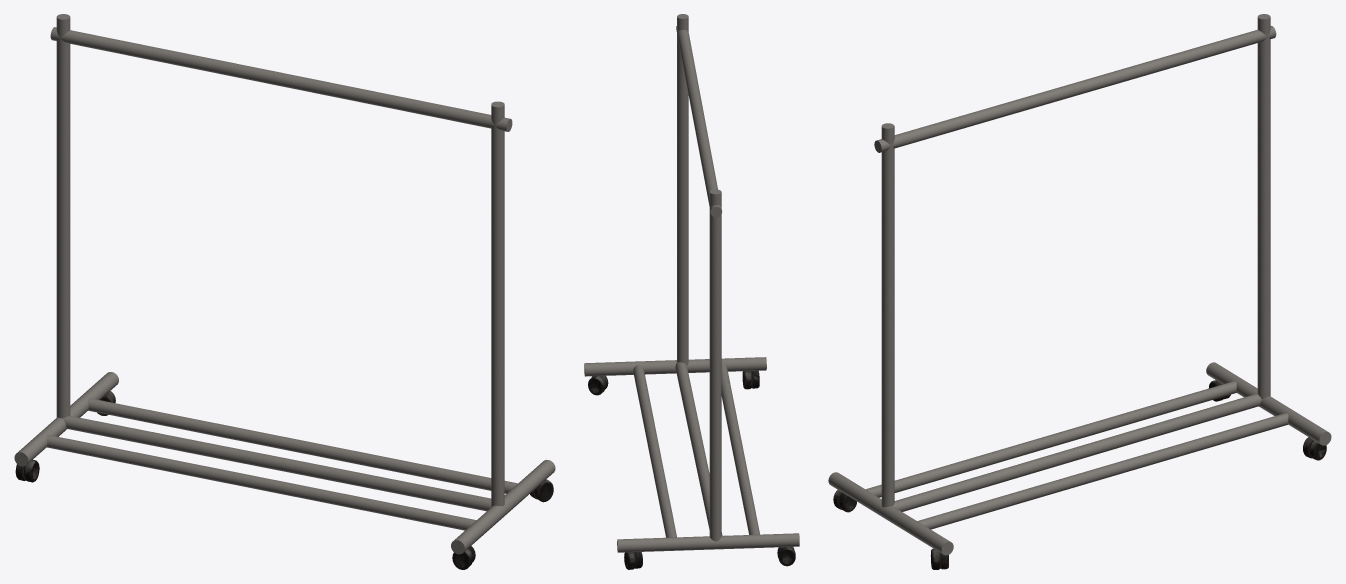
The model's file is hanger1.fbx.
3 views of the same model, side by side, from view 1: azimuth 30°, elevation 25°; view 2: azimuth 150°, elevation 25°; view 3: azimuth 270°, elevation 25° (orthographic). The views are drawn at different scales.
Parts seen in each view (by area): view 1: hanger; view 2: hanger; view 3: hanger.
Boxes of the visible parts, x1,y1,x2,y2 form: hanger: (14,14,555,569); hanger: (584,14,799,569); hanger: (828,14,1331,569).
Bounding box in the file's own units: 3.5 × 3.66 × 4.07.
Materials: 2 (2 with a texture image).
